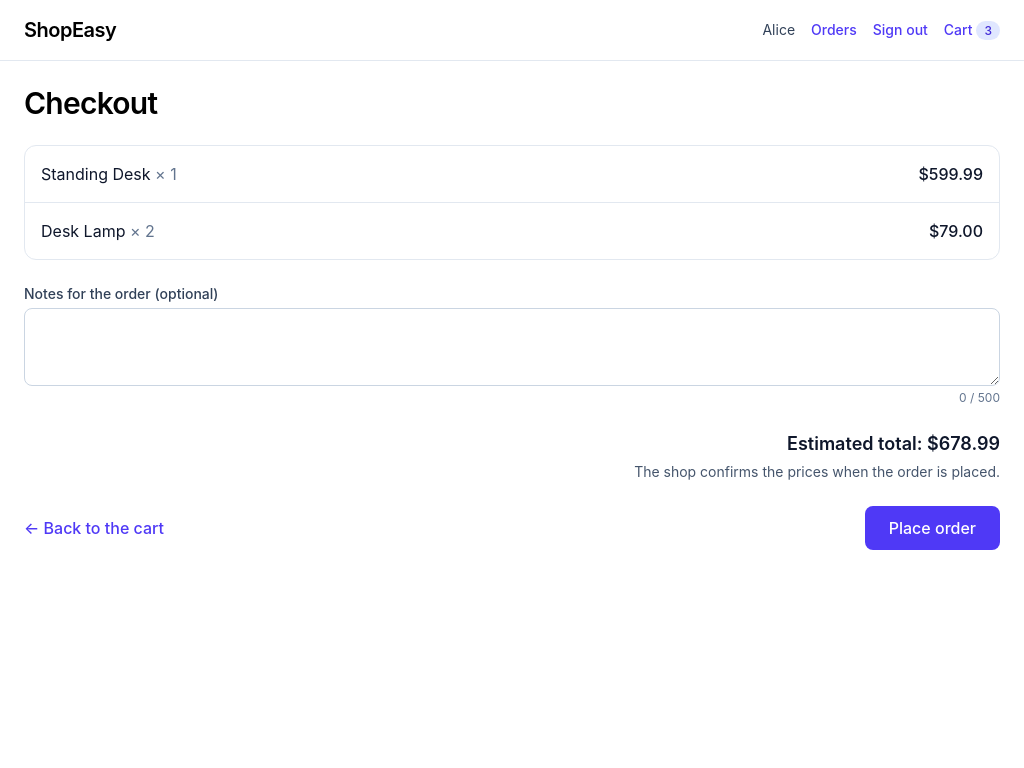
Test: CheckoutPage › tells how long to wait when orders come too fast
Click the button "Place order".
click(932, 528)  # box [865, 506, 1000, 550]
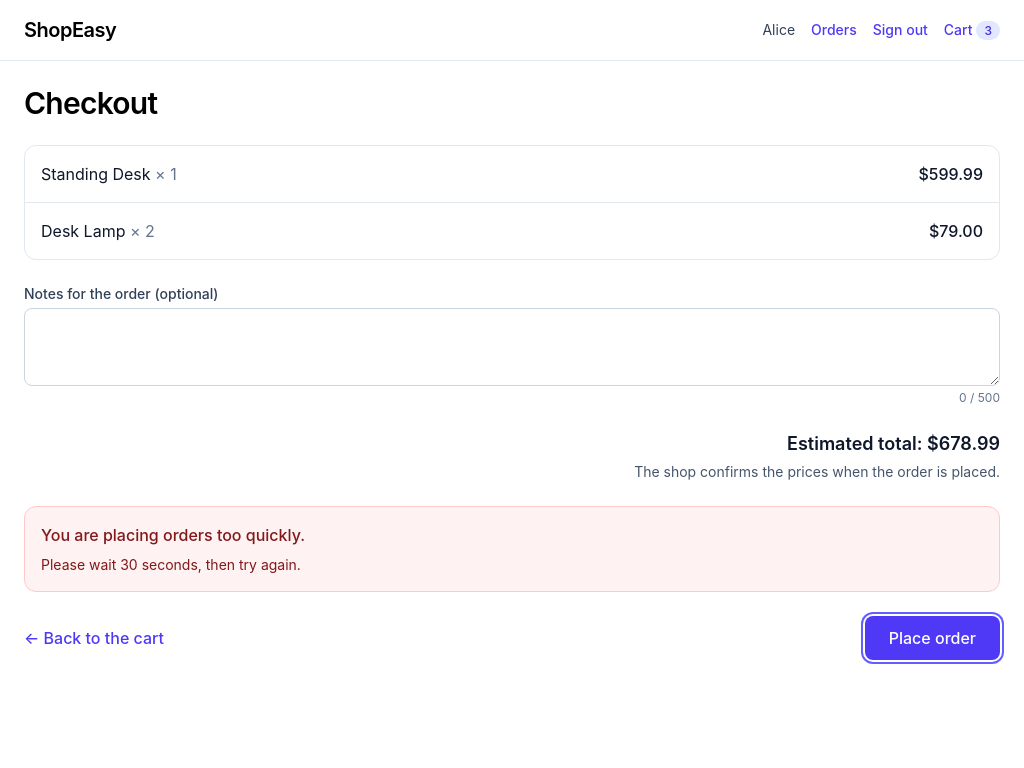
Expected: the message shows "You are placing orders too quickly.", [41, 525, 305, 545]
Expected: the message shows "Please wait 30 seconds", [24, 506, 1000, 592]
